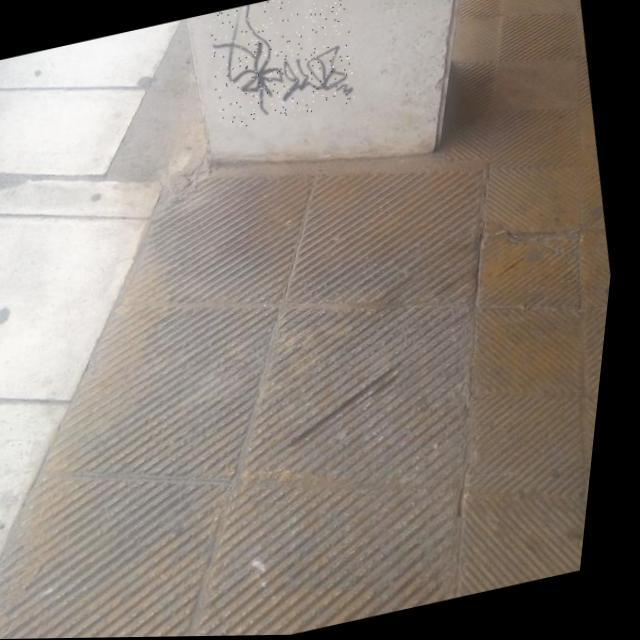-: (197, 0, 367, 133)
